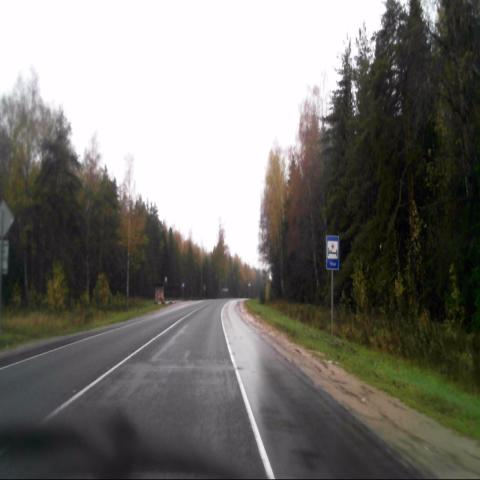7_2: (324, 236, 341, 275)
